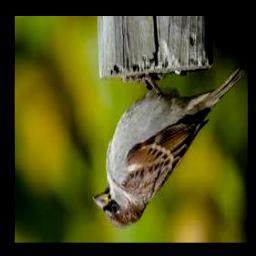Sparrow: (93, 69, 245, 229)
